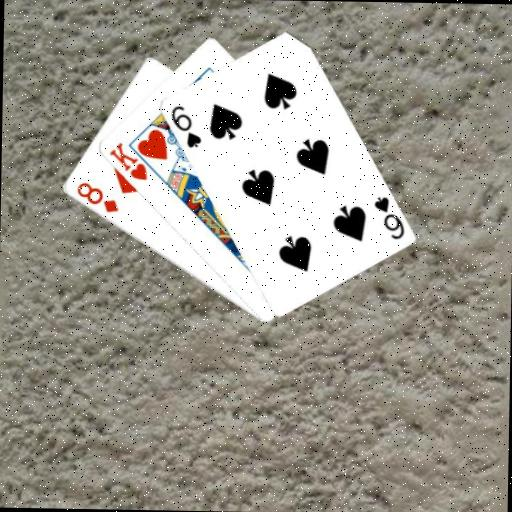6S: (369, 193, 406, 242), (168, 102, 204, 150)
8D: (73, 179, 121, 215)
KH: (105, 139, 149, 182)
